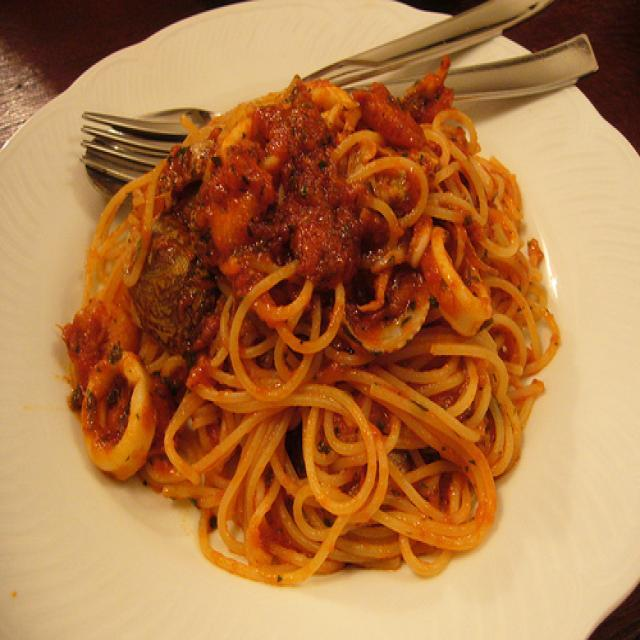Pasta: (49, 75, 560, 578)
